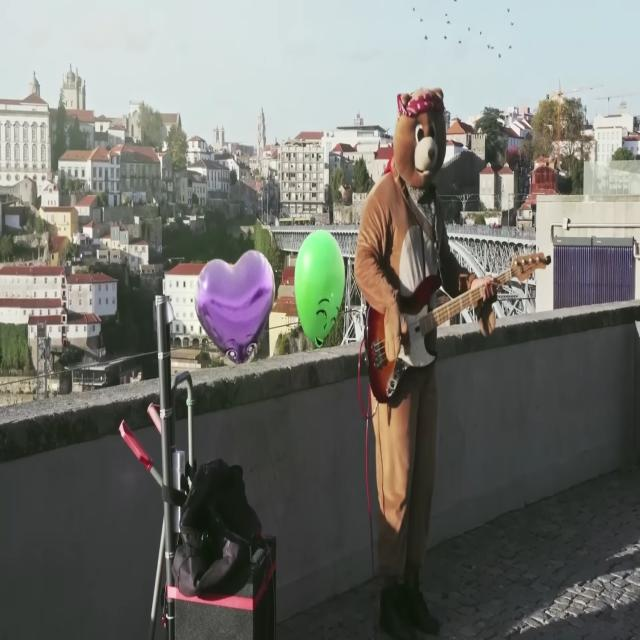balloon: (190, 250, 280, 362), (294, 230, 346, 345)
